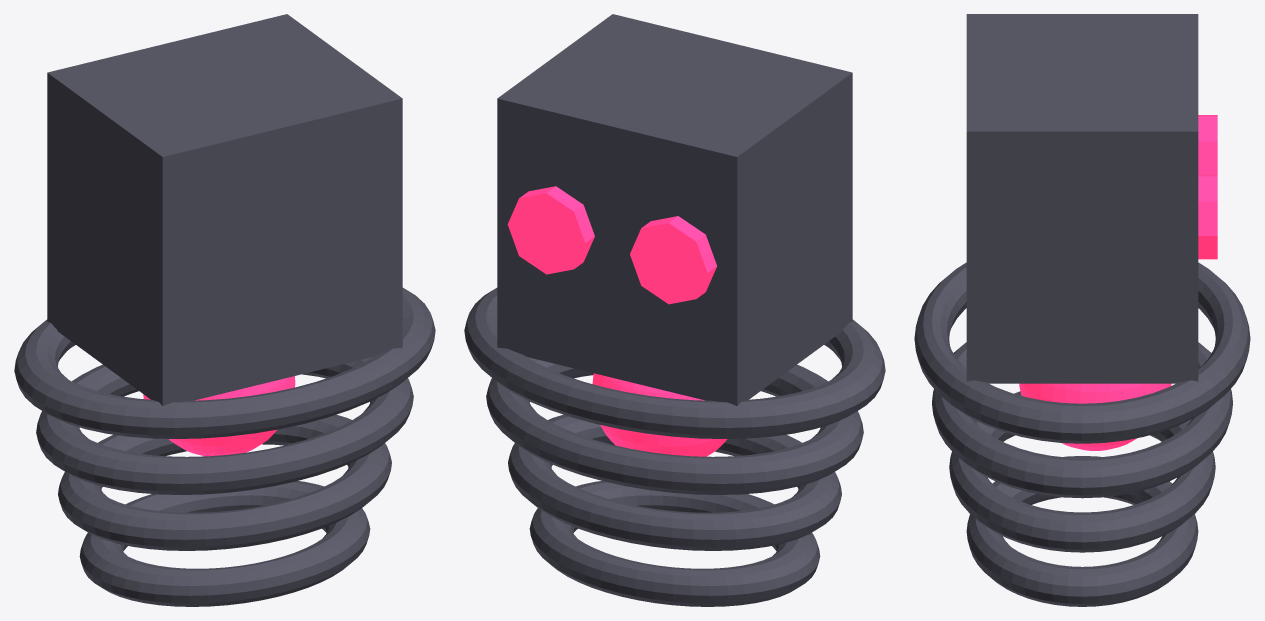
Rendered from boss_gashadokuro.glb.
3 renders of one model, left to right at view 1: azimuth 30°, elevation 25°; view 2: azimuth 150°, elevation 25°; view 3: azimuth 270°, elevation 25°, orthographic.
Parts seen in each view (by area): view 1: Cube, Torus, Torus.001, Torus.002, Torus.003, Sphere; view 2: Cube, Torus, Torus.001, Torus.002, Torus.003, Cylinder.001, Cylinder, Sphere; view 3: Cube, Torus, Torus.001, Torus.002, Torus.003, Sphere, Cylinder.001, Cylinder.
Part boxes in pixels (bbox=[...]): Cube: bbox=[47, 14, 402, 405]; Torus: bbox=[14, 288, 435, 438]; Torus.001: bbox=[36, 357, 413, 494]; Torus.002: bbox=[58, 414, 391, 550]; Torus.003: bbox=[79, 481, 370, 606]; Sphere: bbox=[143, 376, 295, 456]; Cube: bbox=[497, 14, 852, 405]; Torus: bbox=[464, 288, 885, 438]; Torus.001: bbox=[486, 357, 863, 494]; Torus.002: bbox=[508, 414, 841, 550]; Torus.003: bbox=[529, 481, 820, 606]; Cylinder.001: bbox=[507, 186, 594, 274]; Cylinder: bbox=[630, 216, 716, 304]; Sphere: bbox=[592, 373, 727, 456]; Cube: bbox=[966, 14, 1198, 383]; Torus: bbox=[914, 262, 1250, 443]; Torus.001: bbox=[932, 342, 1232, 498]; Torus.002: bbox=[949, 391, 1215, 552]; Torus.003: bbox=[966, 456, 1198, 606]; Sphere: bbox=[1019, 383, 1171, 450]; Cylinder.001: bbox=[1198, 174, 1217, 259]; Cylinder: bbox=[1198, 115, 1217, 174].
Size of the model in its own units: 3.48 by 4.08 by 2.61.
